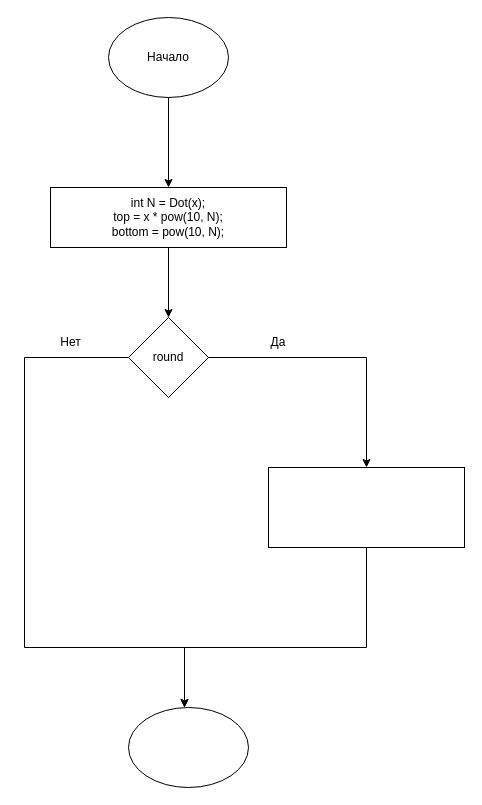
Image size: 482x805. Some labels were removed from this diagram. Each missing label, with the box of its shape:
int nod = Nod(top, bottom); top /= nod; bottom /= nod;: (268, 466, 464, 548)
Конец: (128, 706, 248, 788)
